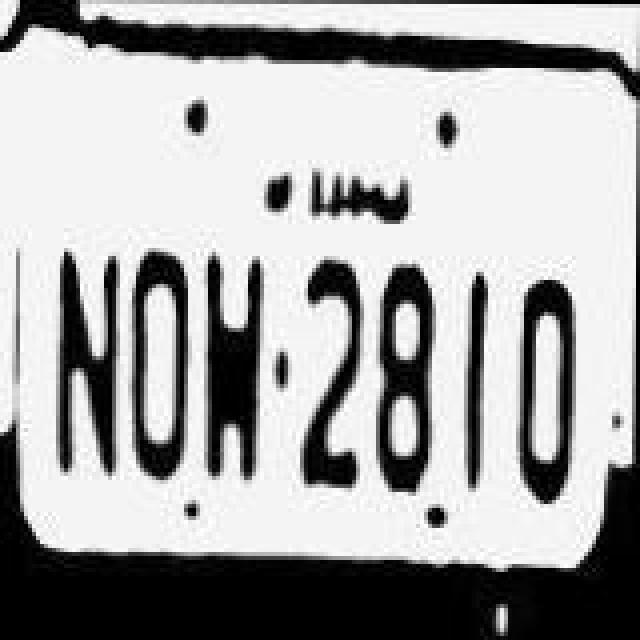1: (452, 252, 500, 504)
2: (290, 256, 366, 524)
8: (366, 262, 442, 510)
N: (44, 228, 132, 492)
O: (126, 240, 202, 496), (510, 264, 586, 512)
W: (200, 240, 272, 492)
